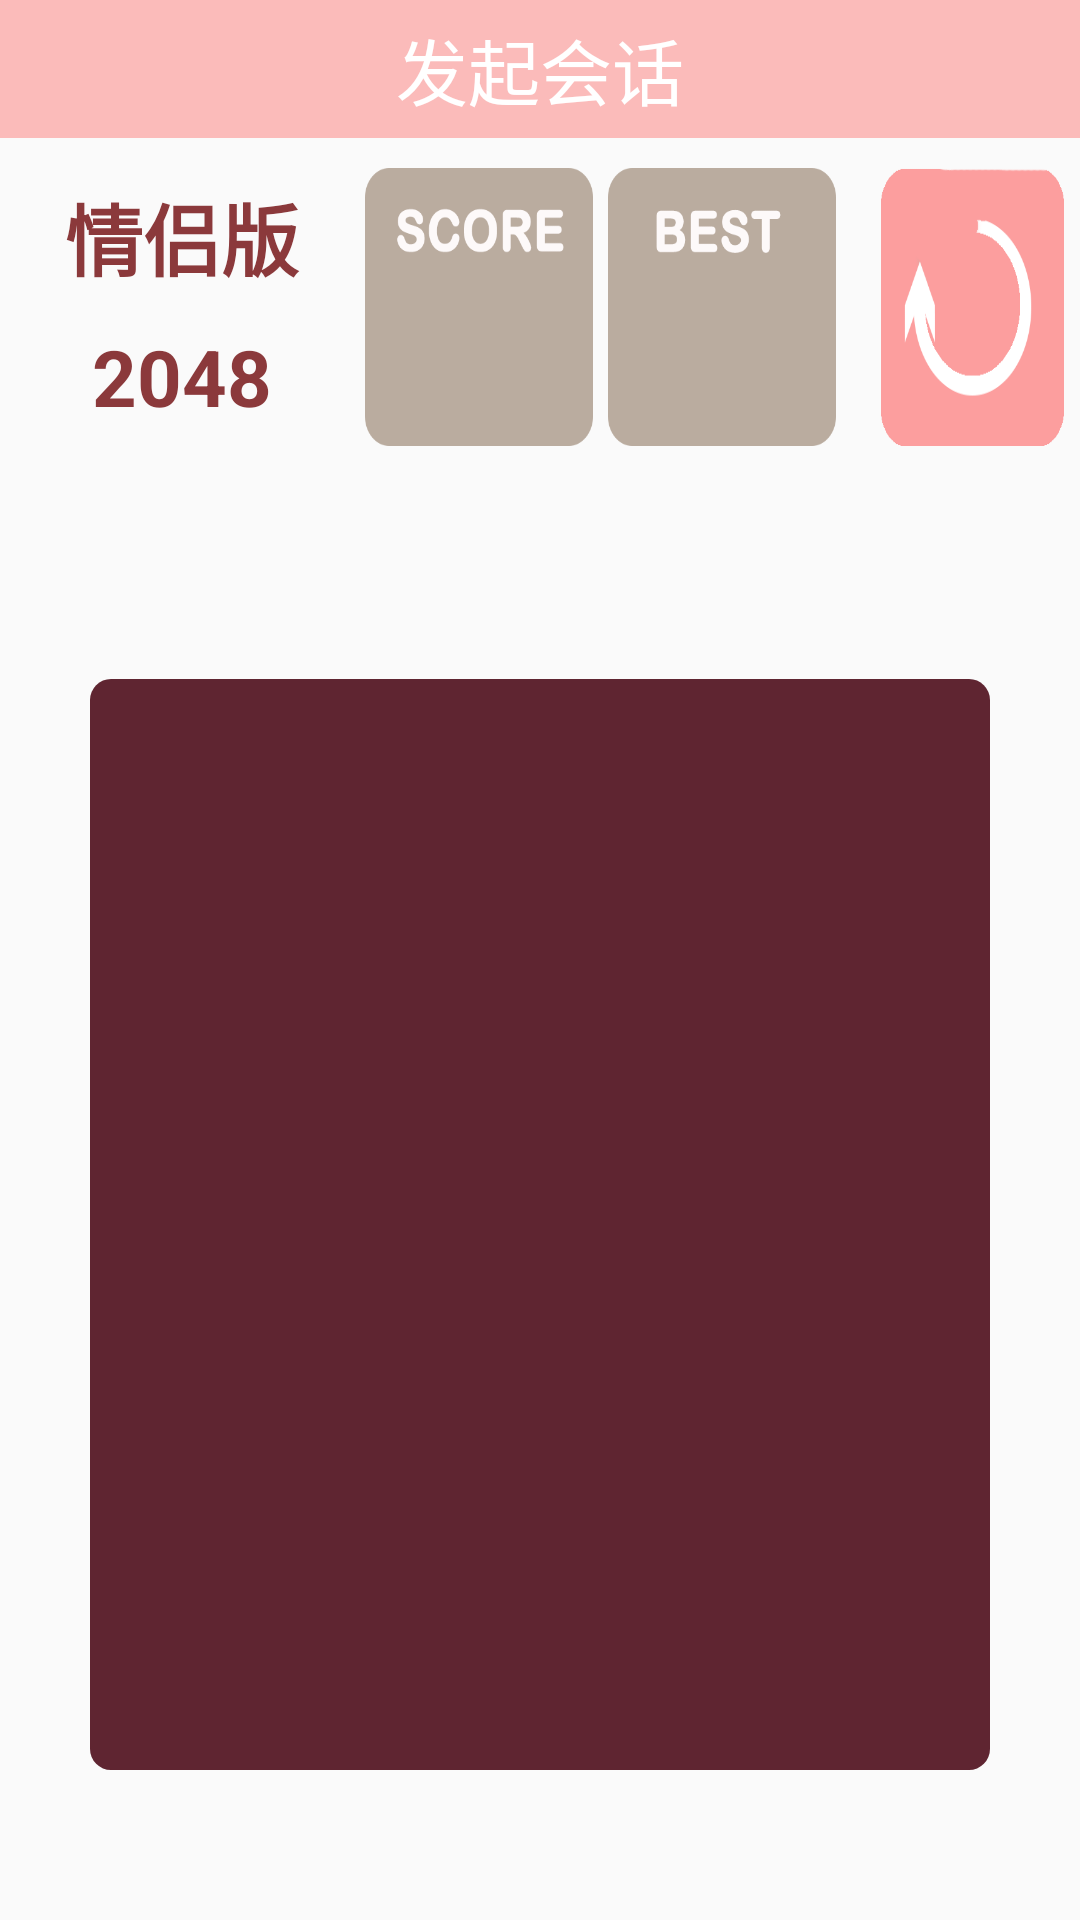

Icon click points for this 1080x1920 phone screenshot, format (x,y):
restar: (972,307)
